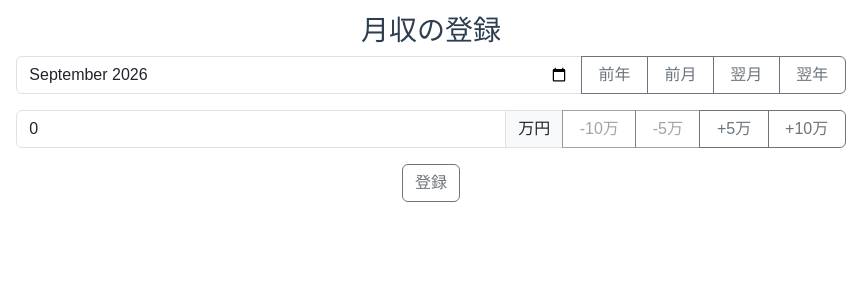
Test: 登録処理 › 月収登録に成功
Replace the text in the field with test id "selected-month" with "2025-01" at (299, 75), box [16,56,582,94]
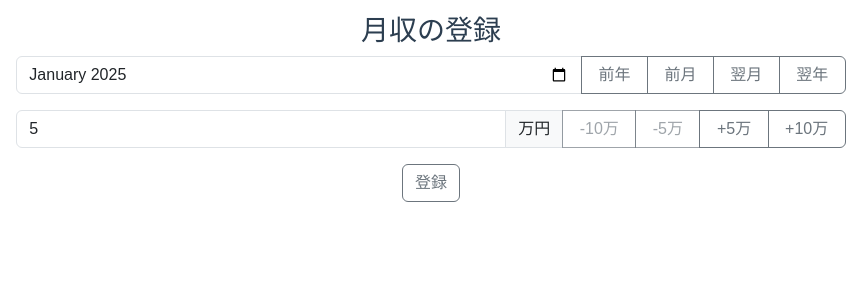
Replace the text in the number field with test id "income-form" with "25" at (261, 129), box [16,110,506,148]
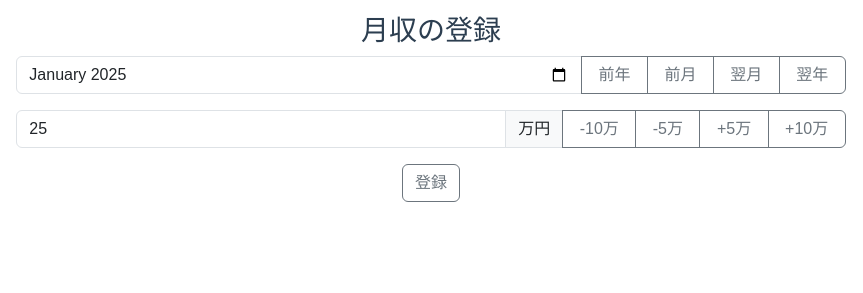
Submit the form from the button with test id "submit", box [402,164,460,202]
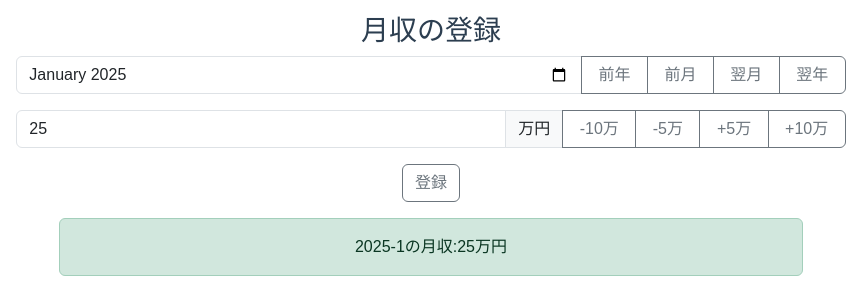
Check: the text with test id "register-msg" reads "2025-1の月収:25万円", box [355,238,507,255]
